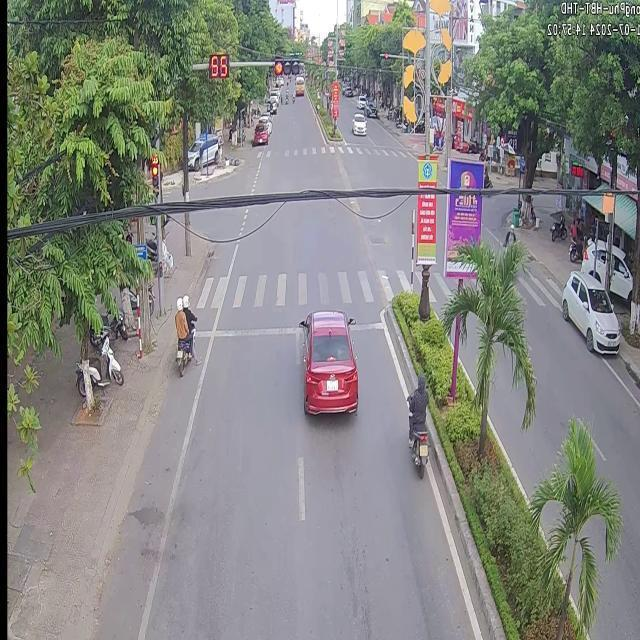car: (298, 309, 357, 411), (559, 269, 618, 352), (608, 242, 630, 296), (187, 131, 218, 169), (580, 236, 604, 282), (250, 114, 270, 145), (350, 109, 364, 132), (294, 74, 303, 94)
motobike: (406, 374, 427, 475), (173, 296, 190, 376), (98, 327, 122, 382), (99, 309, 127, 338), (87, 362, 107, 386), (74, 360, 84, 396), (88, 327, 99, 347)
red_light: (207, 54, 229, 78), (273, 59, 298, 74), (152, 151, 159, 192)
stop_line: (192, 321, 304, 339), (346, 319, 385, 329)
